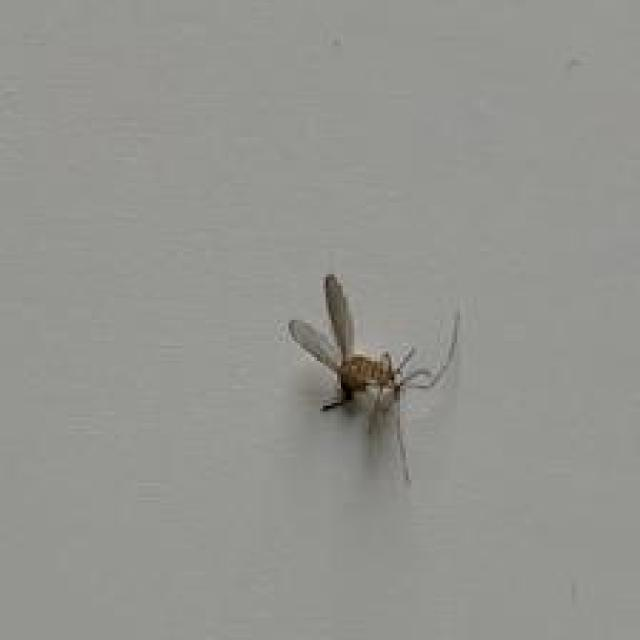Culex: (287, 273, 462, 484)
